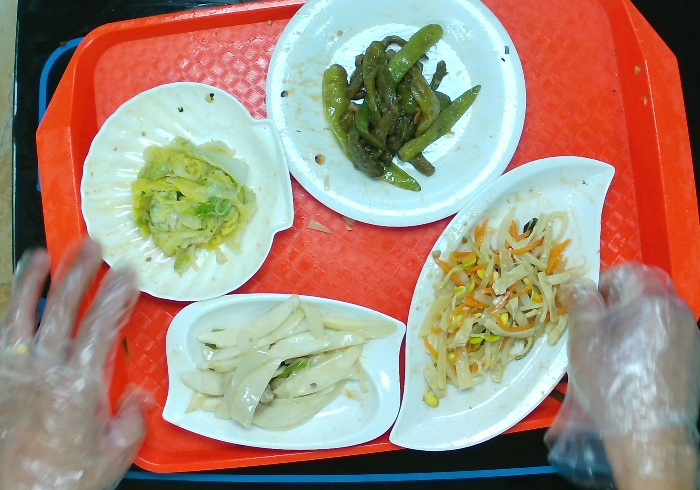RJxy-Bei_Ke_Wan: (78, 80, 301, 305)
RJxy-Jian_Jiao_Fang_Die: (159, 290, 410, 455)
RJxy-Jian_Jiao_Pan: (386, 153, 620, 455)
RJxy-Yuan_Pan: (262, 1, 533, 231)
